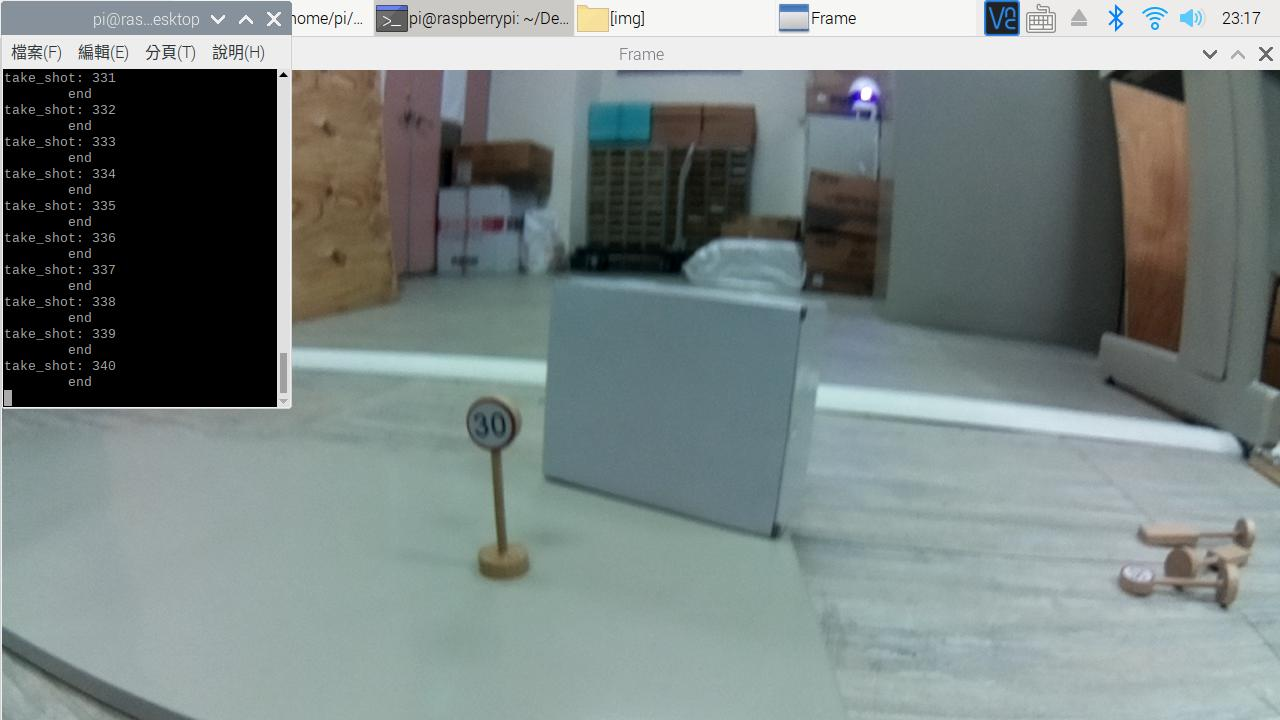Speed30: (448, 387, 553, 477)
